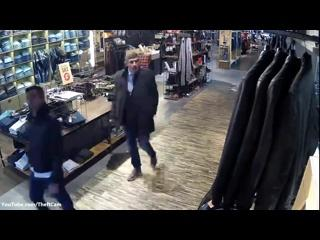Normal: (16, 86, 74, 210), (112, 49, 162, 182)
